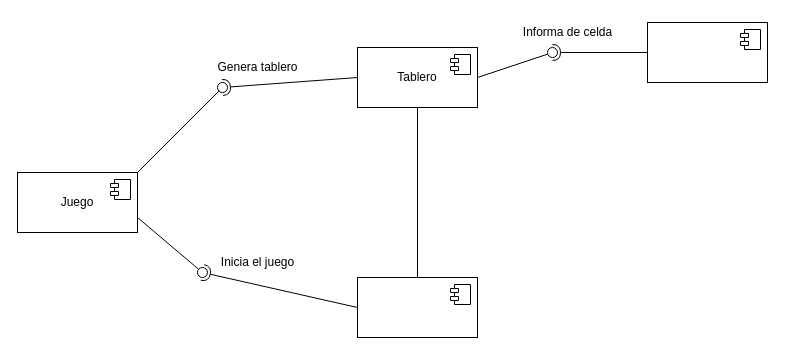
This 785x355 diagram has some shape labels left out. The shapes that lost their labels are listed below. From the top down, each one's centre as x and y in pixels, then its label:
At point (707, 52): "Celda".
At point (417, 307): "Jugador".
